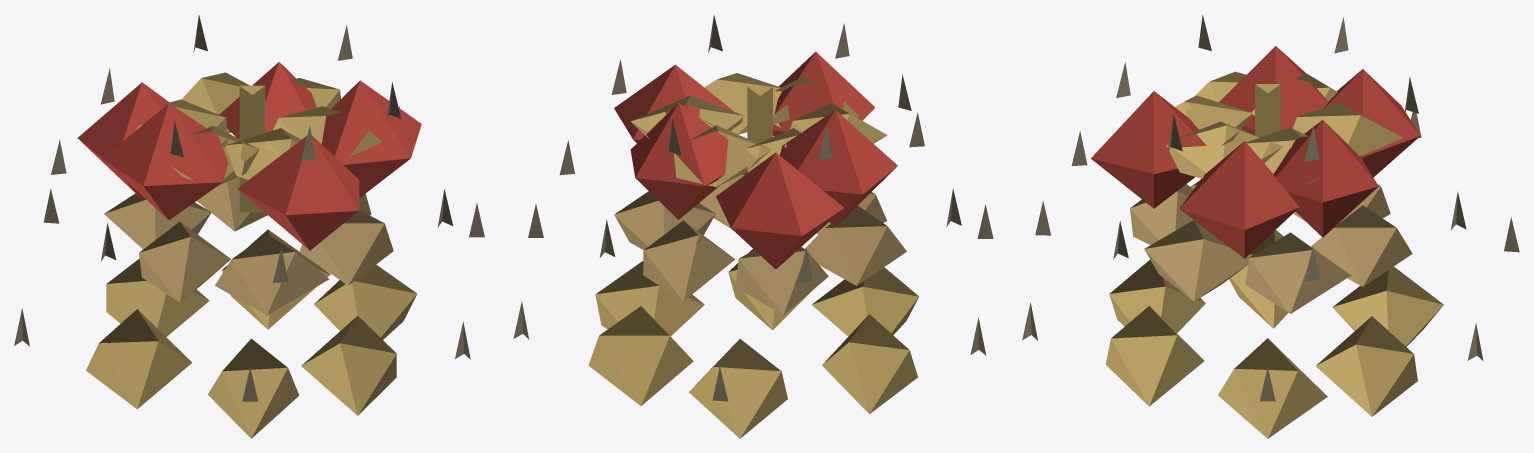
File: cao.shamo@fruiting__autumn.glb
3 renders of one model, left to right at view 1: azimuth 30°, elevation 25°; view 2: azimuth 150°, elevation 25°; view 3: azimuth 270°, elevation 25°, orthographic.
Parts seen in each view (by area): view 1: cao.shamo@fruiting__autumn; view 2: cao.shamo@fruiting__autumn; view 3: cao.shamo@fruiting__autumn.
Boxes of the visible parts, <box> form: cao.shamo@fruiting__autumn: <box>14,15,484,438</box>; cao.shamo@fruiting__autumn: <box>513,15,993,438</box>; cao.shamo@fruiting__autumn: <box>1022,15,1519,438</box>.
Size of the model in its own units: 1.8 by 1.16 by 1.66.
